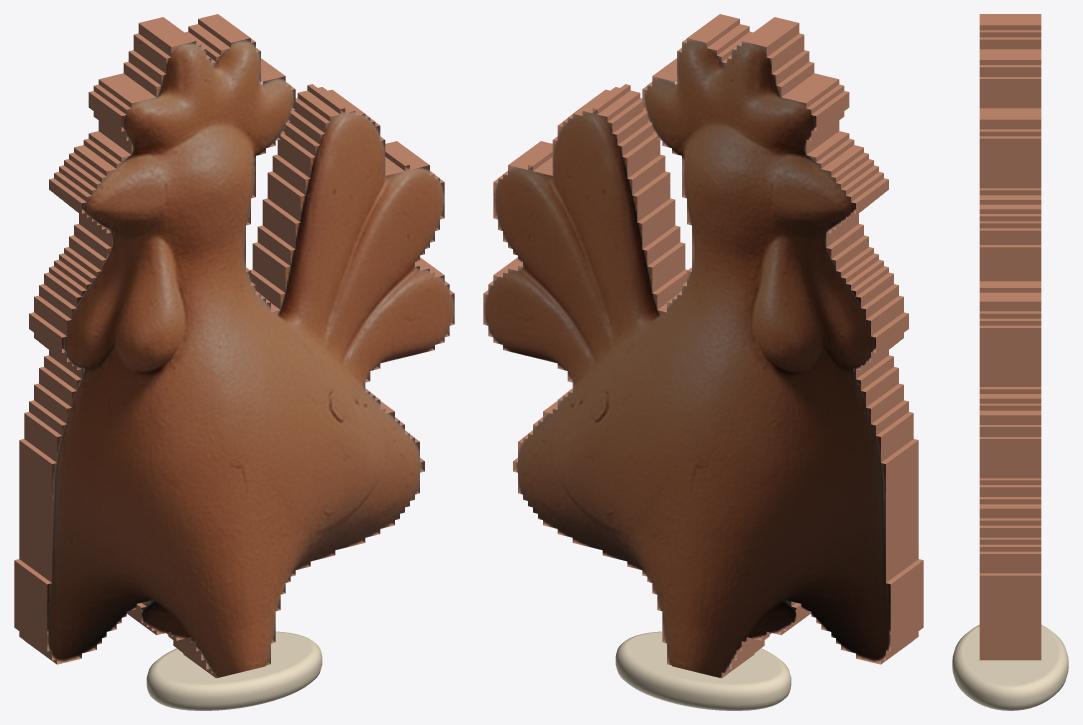
The model's file is ar-clay-rooster.glb.
3 views of the same model, side by side, from view 1: azimuth 30°, elevation 25°; view 2: azimuth 150°, elevation 25°; view 3: azimuth 270°, elevation 25° (orthographic). The views are drawn at different scales.
Visible parts, largest first — view 1: ToyArtworkSilhouette, SmallRoundedDisplayFoot; view 2: ToyArtworkSilhouette, SmallRoundedDisplayFoot; view 3: ToyArtworkSilhouette, SmallRoundedDisplayFoot.
Part boxes in pixels (x1=…): ToyArtworkSilhouette: x1=14, y1=14, x2=454, y2=678; SmallRoundedDisplayFoot: x1=146, y1=631, x2=322, y2=710; ToyArtworkSilhouette: x1=483, y1=14, x2=923, y2=678; SmallRoundedDisplayFoot: x1=615, y1=631, x2=791, y2=710; ToyArtworkSilhouette: x1=979, y1=14, x2=1041, y2=660; SmallRoundedDisplayFoot: x1=952, y1=624, x2=1068, y2=710.
Size of the model in its own units: 0.1289 by 0.202 by 0.034.
Materials: 3 (1 with a texture image).
